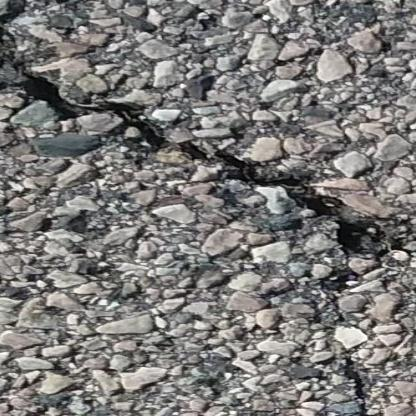Cracks: (0, 21, 416, 271)
